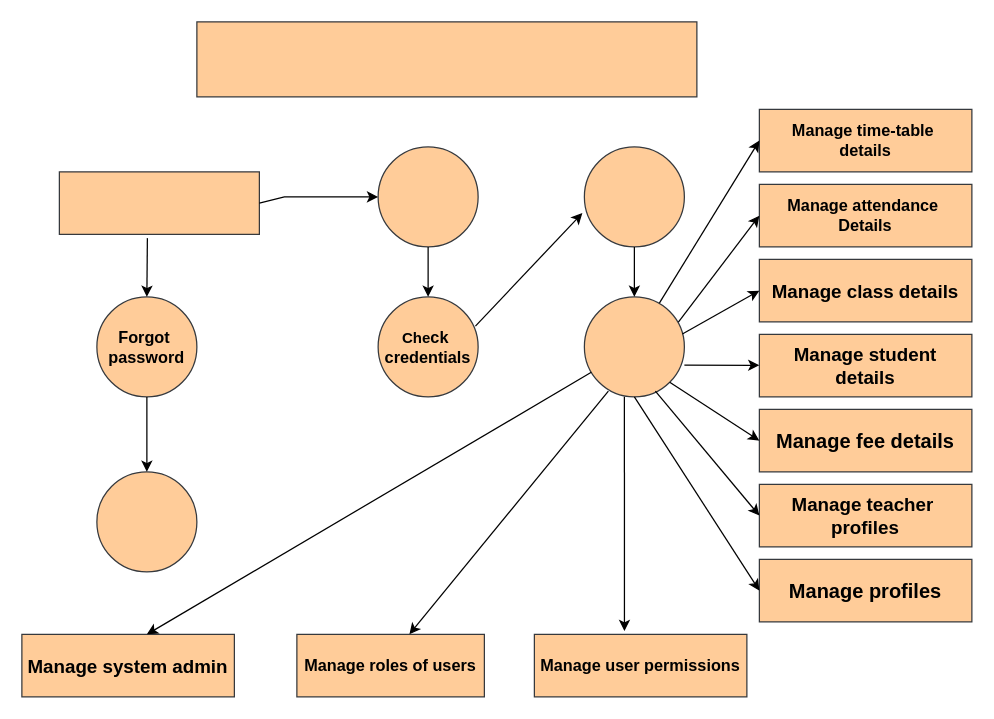
The diagram is 994 pixels wide and 719 high, and some of its shapes have lost their labels. Each missing label, with the centre of its shape:
Admin: (158,202)
Check roles of Access: (633,196)
Login to System: (427,196)
Manage Modules: (633,346)
Send email to user: (146,521)
Student Information System: (446,59)
